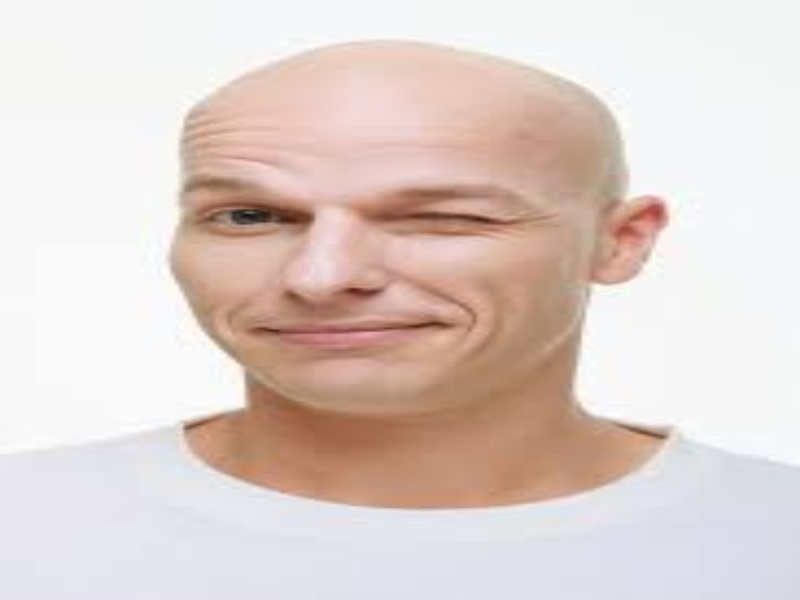face: (179, 160, 565, 375)
